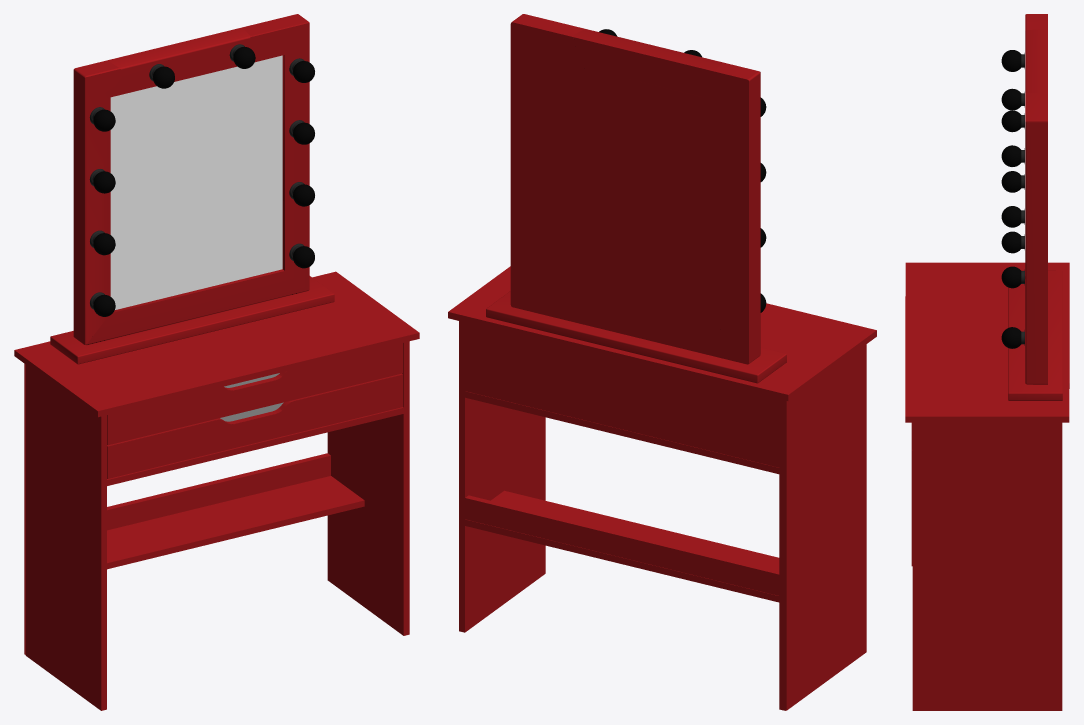
Rendered from Table.fbx.
3 renders of one model, left to right at view 1: azimuth 30°, elevation 25°; view 2: azimuth 150°, elevation 25°; view 3: azimuth 270°, elevation 25°, orthographic. The views are drawn at different scales.
Visible parts, largest first — view 1: Layer:KM_WORK, Object020, Object016, Object021, Object012, Object013, Box001; view 2: Layer:KM_WORK, Object020, Object016, Object021, Box001; view 3: Layer:KM_WORK, Object020, Box001, Object021, Sphere003, Sphere007, Sphere010, Sphere004, Sphere005, Sphere006, Sphere002, Sphere008 (+2 smaller).
Part boxes in pixels (x1,y1,x2,y2): Layer:KM_WORK: (14, 271, 419, 710); Object020: (85, 14, 309, 345); Object016: (73, 60, 181, 344); Object021: (107, 27, 250, 242); Object012: (107, 373, 402, 478); Object013: (107, 343, 402, 445); Box001: (50, 276, 334, 364); Layer:KM_WORK: (448, 266, 876, 710); Object020: (510, 14, 748, 364); Object016: (644, 62, 760, 363); Object021: (571, 29, 723, 256); Box001: (486, 291, 786, 383); Layer:KM_WORK: (905, 262, 1069, 710); Object020: (1025, 92, 1047, 384); Box001: (1008, 270, 1062, 400); Object021: (1025, 29, 1047, 93); Sphere003: (1001, 206, 1021, 227); Sphere007: (1001, 171, 1021, 192); Sphere010: (1001, 50, 1021, 71); Sphere004: (1001, 266, 1021, 288); Sphere005: (1001, 327, 1021, 348); Sphere006: (1001, 231, 1021, 253); Sphere002: (1001, 88, 1021, 110); Sphere008: (1001, 110, 1021, 132).
Bounding box in the file's own units: 100 × 173 × 45.01.
